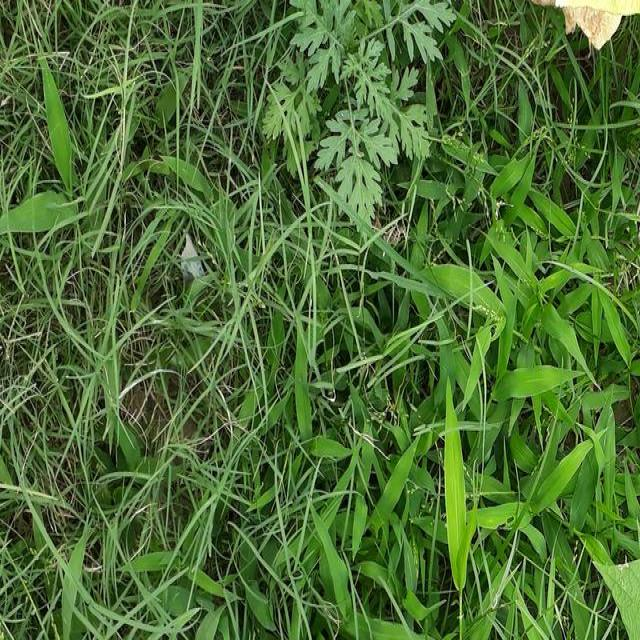weed: (9, 53, 267, 640), (285, 247, 640, 640)
